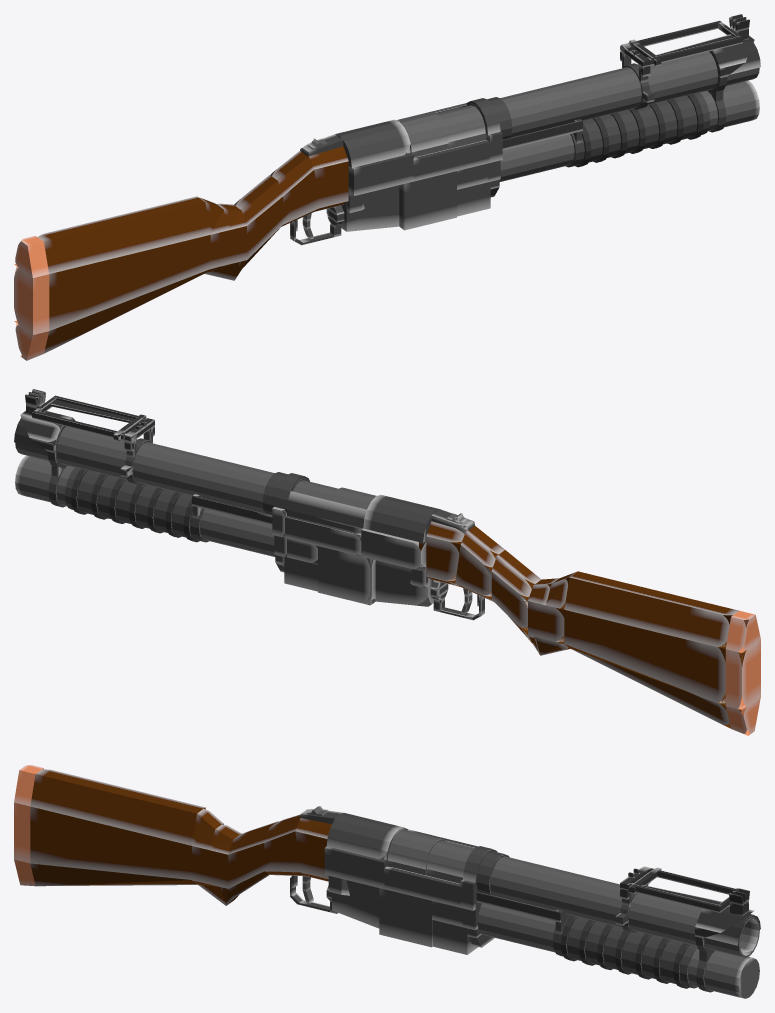
File: chinalake.obj
The picture shows the model from 3 angles, top to bottom: view 1: azimuth 30°, elevation 25°; view 2: azimuth 150°, elevation 25°; view 3: azimuth 330°, elevation 25°; orthographic projection.
Parts seen in each view (by area): view 1: group3, group0, group1, group7, flipsight, chamberhalf; view 2: group3, group0, group1, group7, flipsight, chamberhalf; view 3: group3, group0, group1, group7, flipsight, chamberhalf.
Part boxes in pixels (box(x1,y1,x2,y2)): group3: box(14, 146, 348, 360); group0: box(290, 14, 760, 245); group1: box(499, 50, 759, 181); group7: box(437, 92, 709, 167); flipsight: box(620, 20, 742, 76); chamberhalf: box(398, 112, 448, 157); group3: box(419, 521, 760, 735); group0: box(14, 389, 484, 620); group1: box(15, 419, 275, 556); group7: box(65, 467, 337, 542); flipsight: box(32, 395, 154, 451); chamberhalf: box(330, 487, 376, 528); group3: box(14, 765, 331, 905); group0: box(290, 806, 760, 954); group1: box(477, 856, 759, 998); group7: box(426, 840, 697, 988); flipsight: box(620, 866, 736, 912); chamberhalf: box(384, 829, 445, 875).
Size of the model in its own units: 1.25 by 0.2719 by 0.0938.
